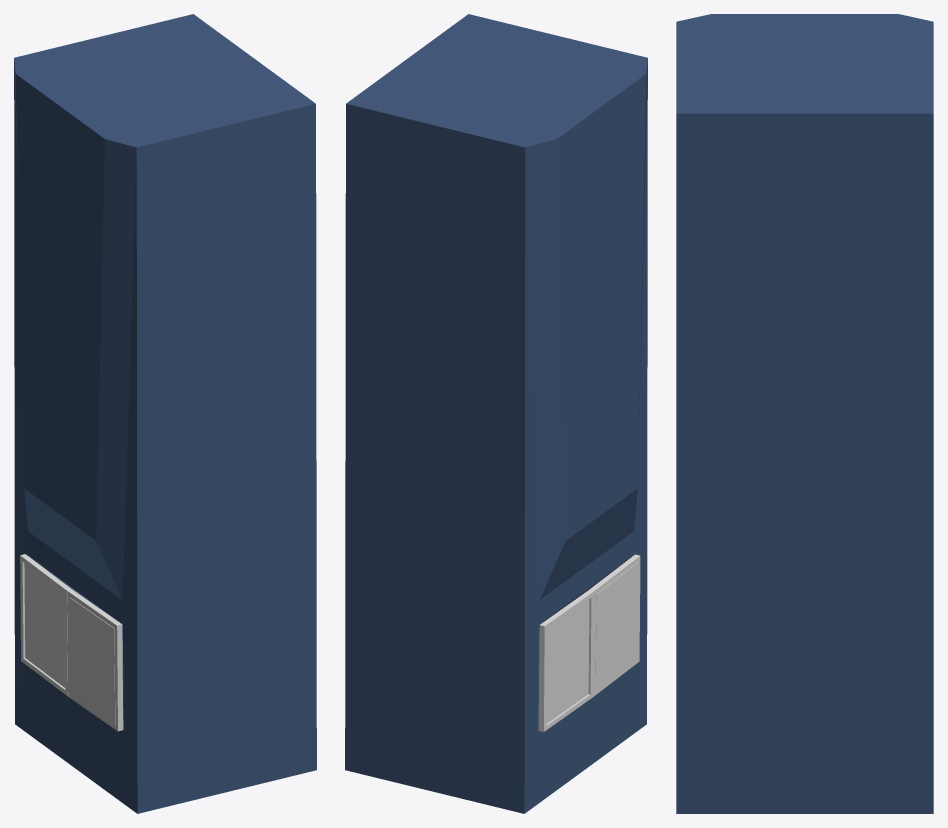
Rendered from elvadordecargar.fbx.
The picture shows the model from 3 angles, left to right: view 1: azimuth 30°, elevation 25°; view 2: azimuth 150°, elevation 25°; view 3: azimuth 270°, elevation 25°; orthographic projection. The views are drawn at different scales.
Parts seen in each view (by area): view 1: Plane.001, Plane.010, Plane.009, Plane.014, Plane.013; view 2: Plane.001, Plane.010, Plane.009, Plane.013, Plane.014; view 3: Plane.001.
Part boxes in pixels (<box>): Plane.001: <box>14,14,316,813</box>; Plane.010: <box>69,597,115,725</box>; Plane.009: <box>24,563,65,687</box>; Plane.014: <box>67,589,123,731</box>; Plane.013: <box>20,554,71,696</box>; Plane.001: <box>345,14,647,813</box>; Plane.010: <box>595,562,637,690</box>; Plane.009: <box>546,599,589,723</box>; Plane.013: <box>538,590,593,731</box>; Plane.014: <box>589,554,640,696</box>; Plane.001: <box>676,14,933,813</box>.
Size of the model in its own units: 505 by 1646 by 549.
